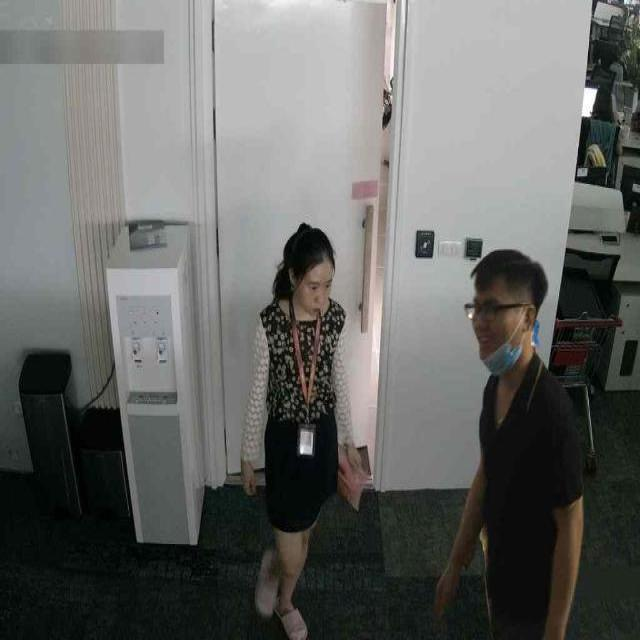bare_hand: (408, 547, 476, 627), (237, 443, 278, 511)
